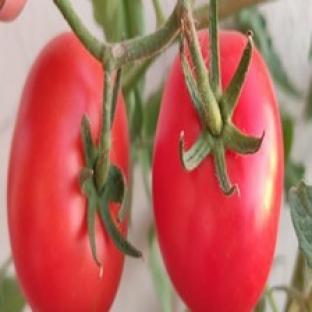Tomato: (152, 49, 284, 311), (7, 34, 123, 311)
